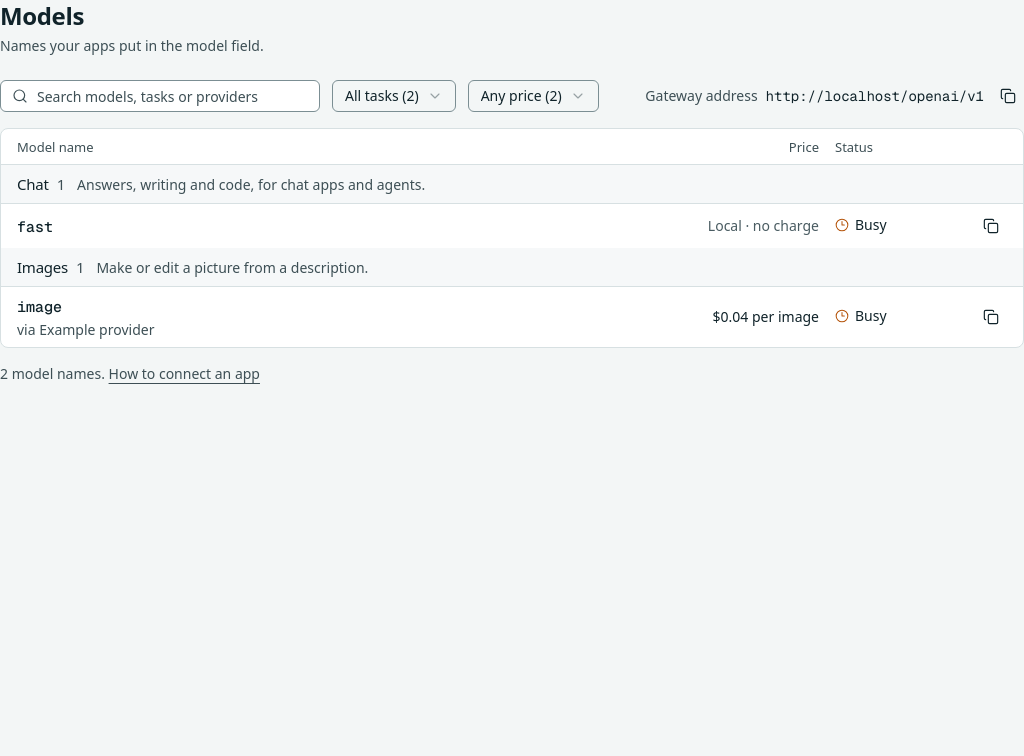
catalog polish › keeps the exact alias as the name and prices local and paid rows honestly
Expected: the button "fast" is shown, x1=17 y1=216 x2=53 y2=238
Click the button "image" at (40,306), box x1=17 y1=296 x2=62 y2=318
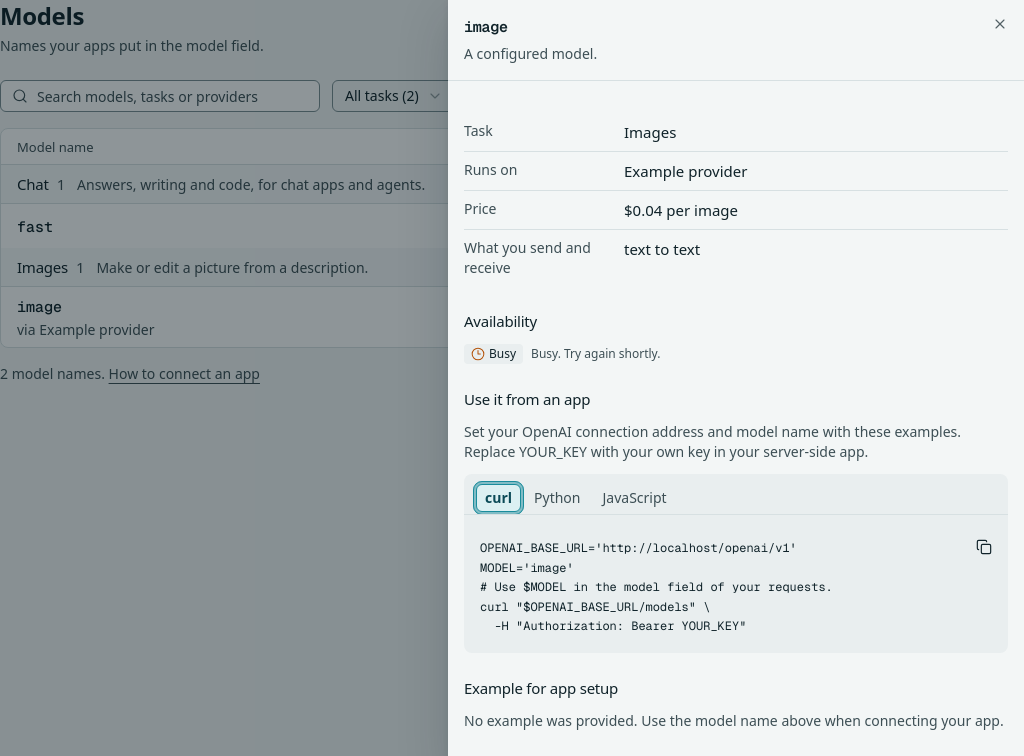
Now the text "$0.04 per image" is shown, box x1=624 y1=199 x2=738 y2=221
